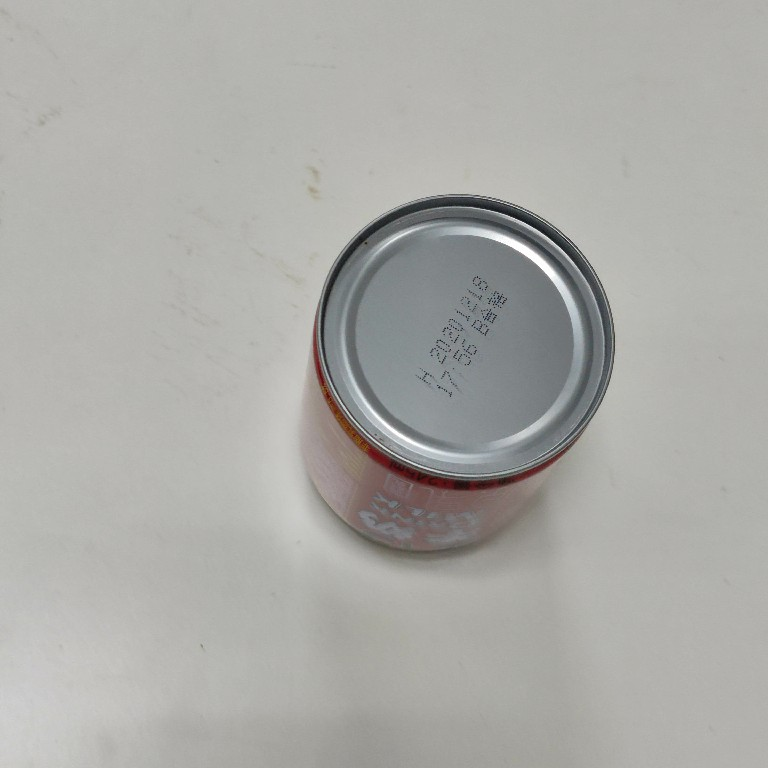can: (296, 191, 619, 555)
